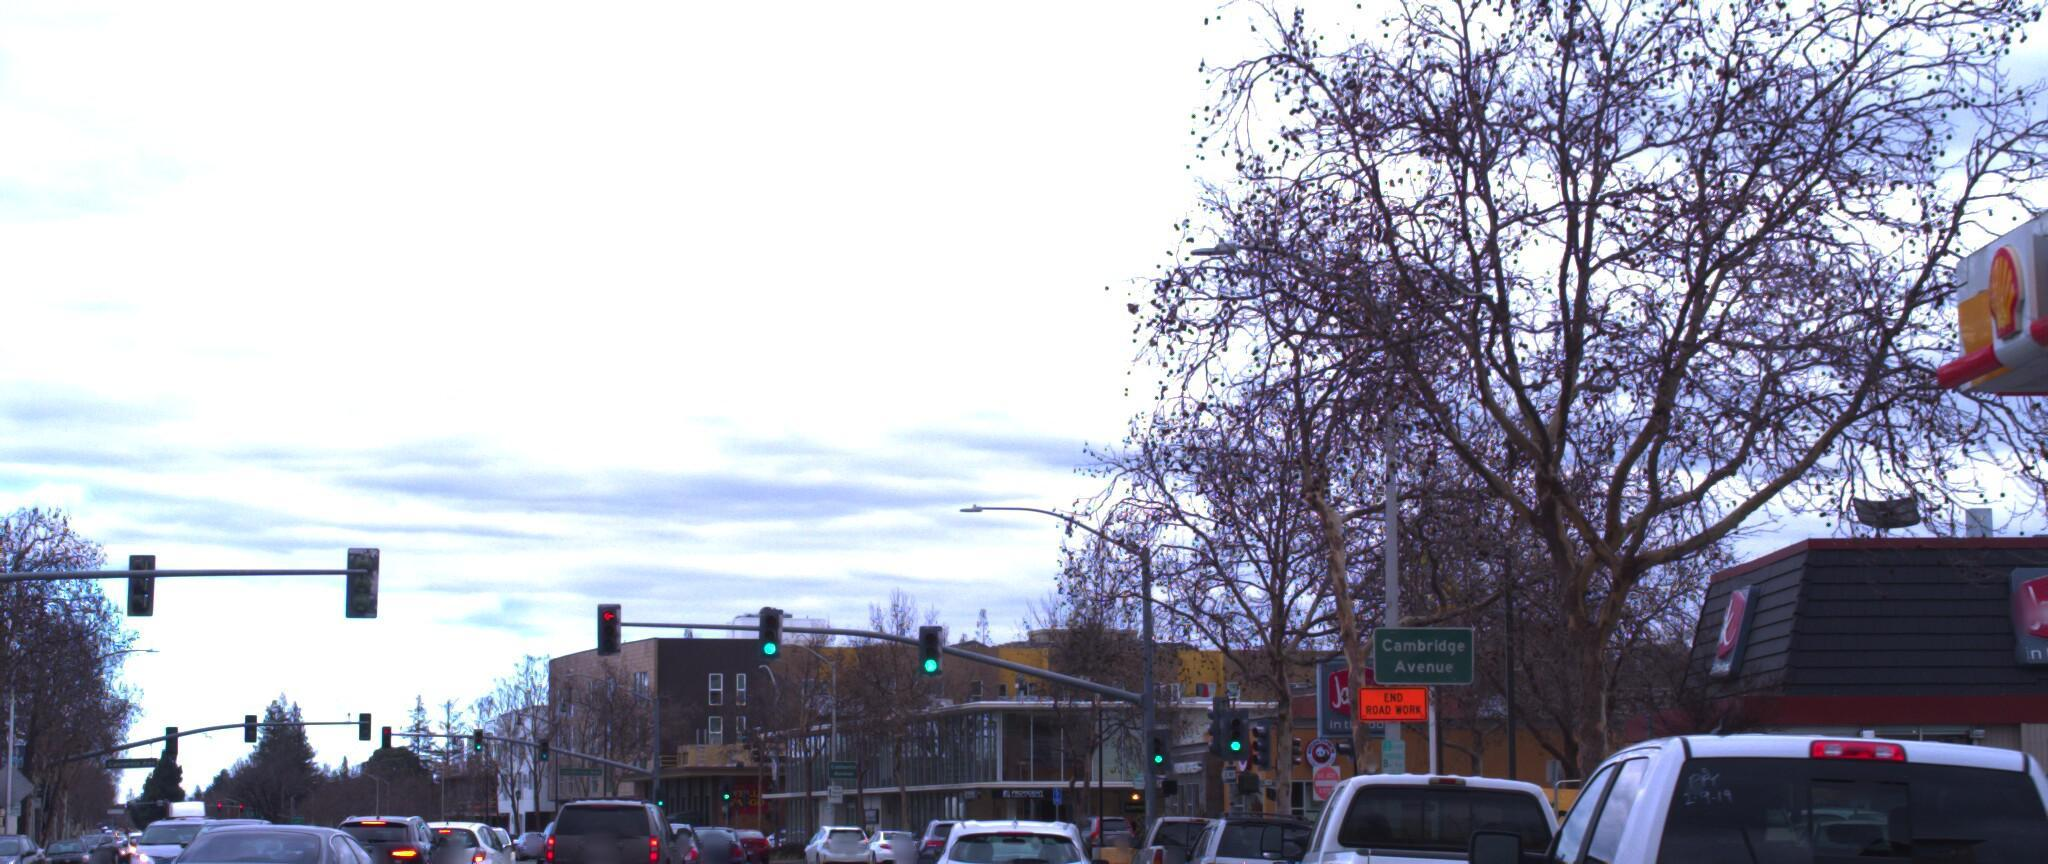car: (1443, 702, 2048, 864), (1264, 752, 1630, 864), (104, 799, 456, 864), (530, 769, 687, 864), (1162, 787, 1337, 864), (307, 788, 477, 864), (916, 800, 1112, 864), (391, 794, 533, 864), (1967, 747, 2048, 864), (1128, 794, 1262, 864), (699, 796, 781, 864), (0, 822, 60, 864)
